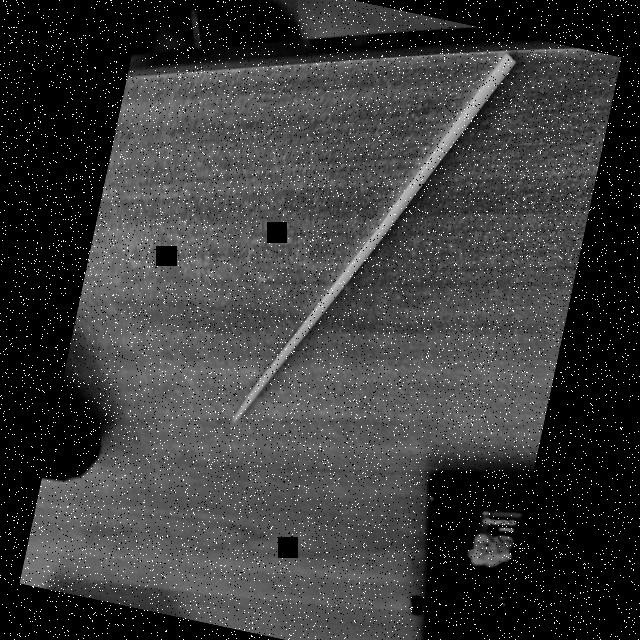stick: (217, 5, 530, 476)
